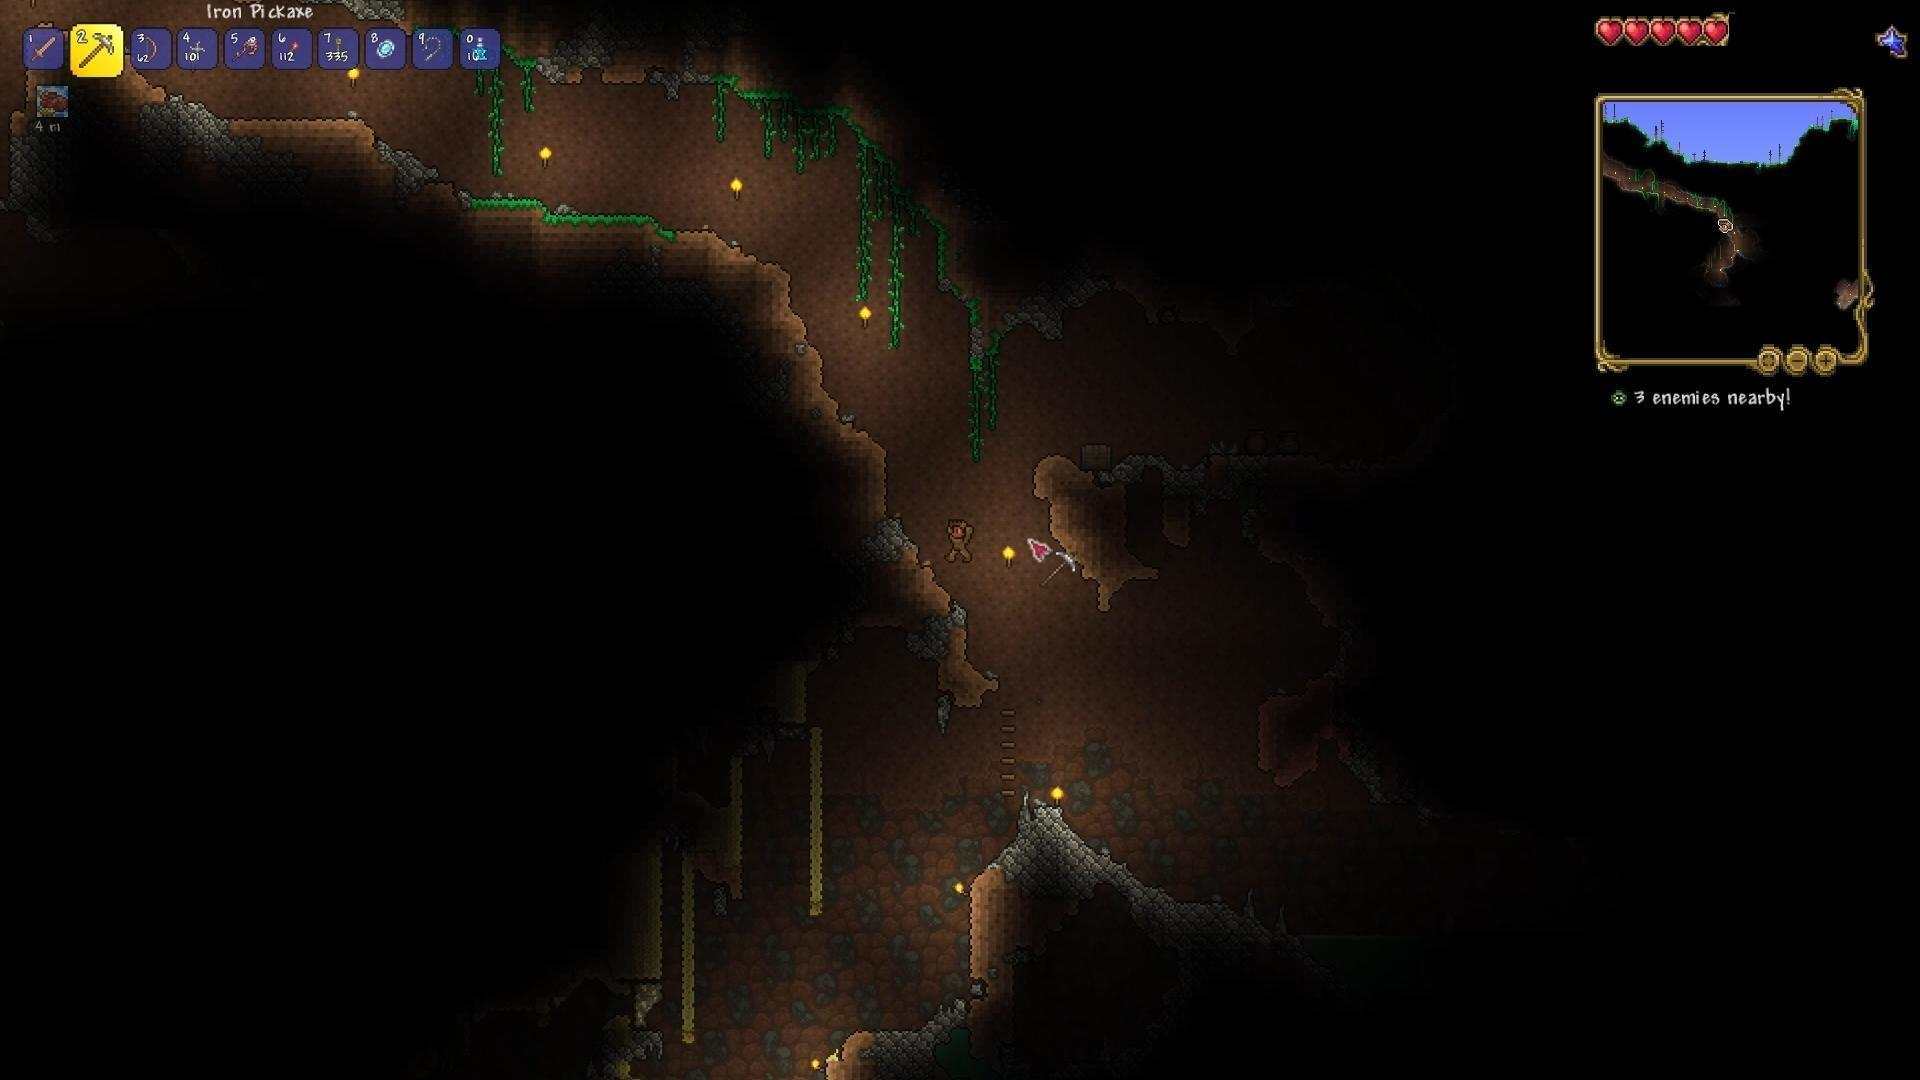heart: (1702, 17, 1733, 51), (1593, 16, 1626, 46), (1676, 15, 1704, 50), (1650, 16, 1676, 49), (1625, 15, 1651, 44)
sand: (670, 852, 707, 1034), (798, 725, 835, 902), (636, 844, 673, 978), (721, 753, 753, 865)
stone: (1004, 803, 1104, 906), (1130, 855, 1247, 938), (885, 985, 965, 1060), (165, 87, 225, 158), (545, 29, 622, 83), (373, 142, 448, 190), (339, 1, 406, 26)
